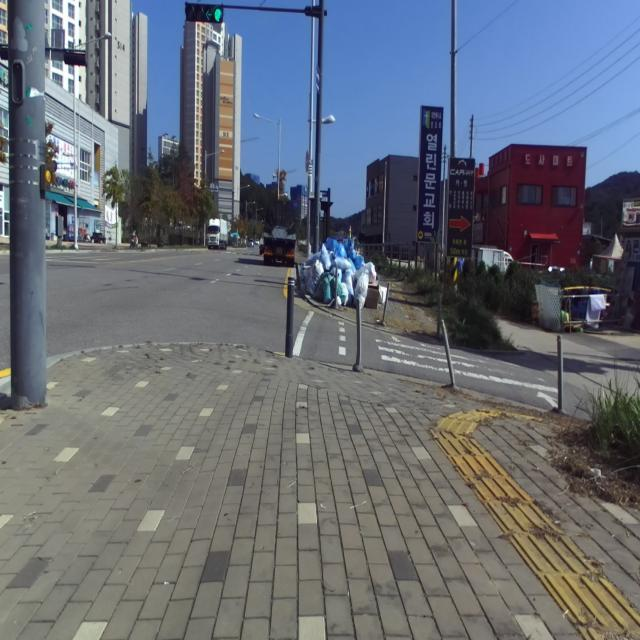횡단보도: (375, 336, 558, 408)
